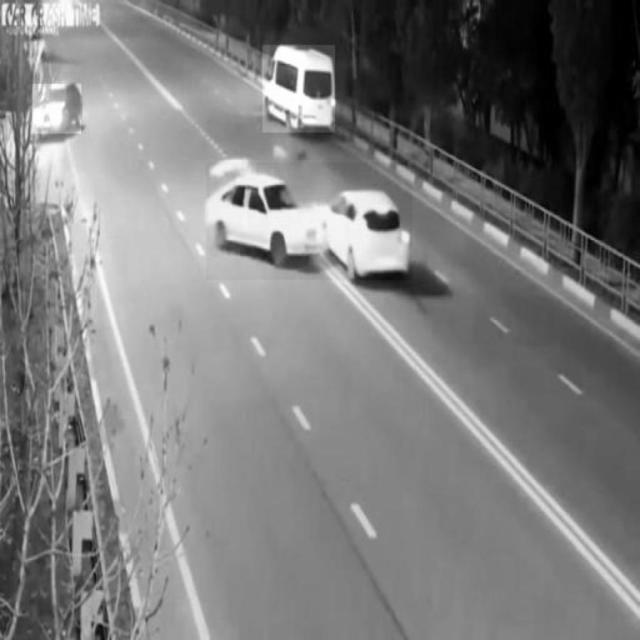accident: (207, 162, 413, 280)
vehicle: (263, 45, 335, 133), (33, 85, 81, 135)
